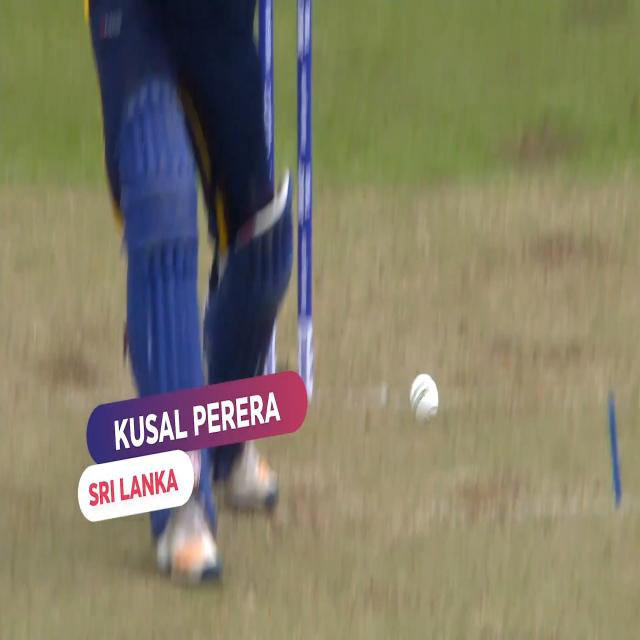ball: (401, 368, 449, 424)
